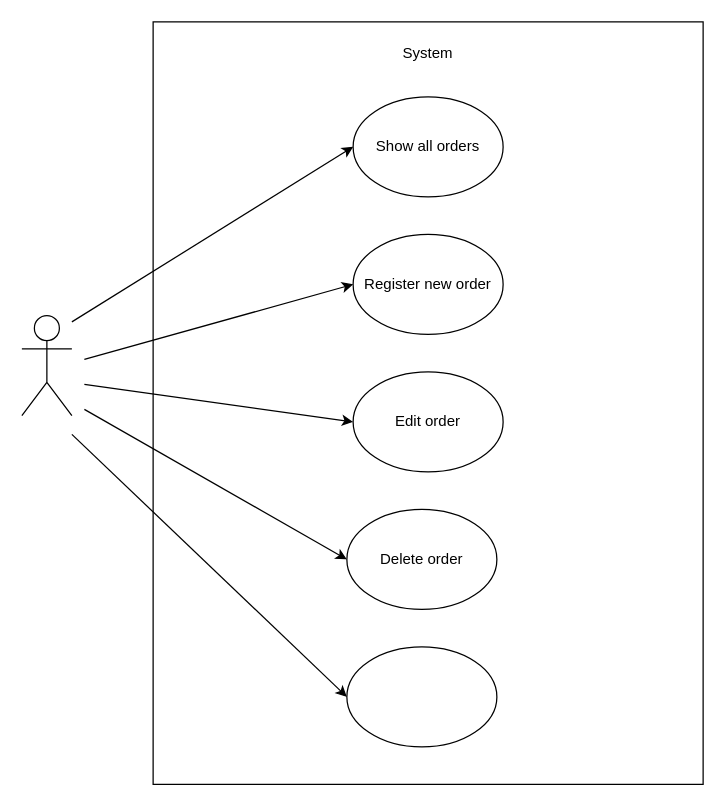
The diagram is 725 pixels wide and 806 high, and some of its shapes have lost their labels. The shapes that lost their labels are listed below. From the top down, each one's centre as x and y in pixels, then its label:
pixel 46 365: User
pixel 421 696: Complete order
